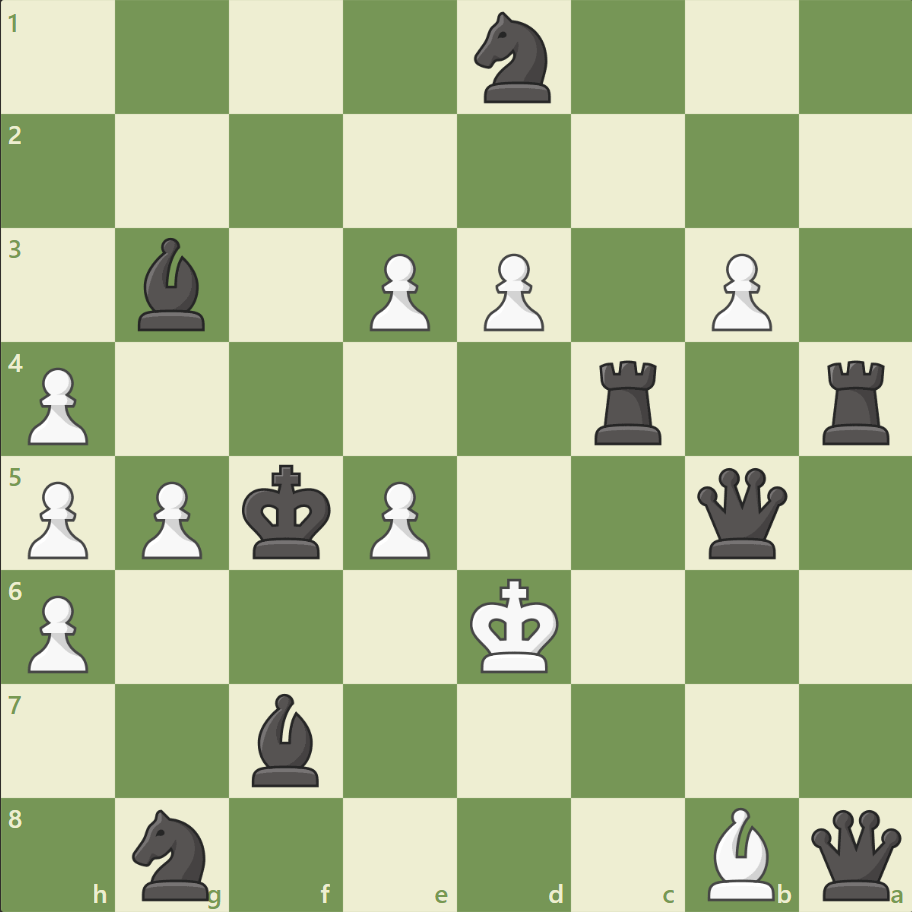B: (698, 801, 782, 904)
K: (465, 571, 565, 679)
P: (20, 586, 95, 677), (133, 473, 208, 564), (20, 473, 95, 564), (20, 359, 95, 450), (701, 246, 776, 337), (474, 246, 549, 337), (361, 473, 435, 564), (361, 246, 435, 337)
b: (244, 687, 328, 790), (131, 233, 215, 336)
k: (238, 458, 338, 566)
n: (124, 802, 222, 904), (465, 7, 562, 110)
q: (805, 804, 904, 903), (691, 463, 790, 562)
r: (814, 352, 897, 449), (587, 352, 670, 449)
